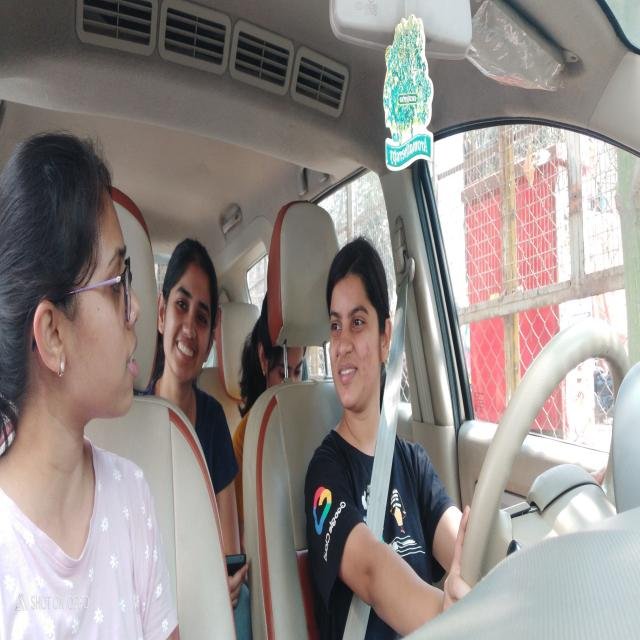person: (0, 120, 151, 438), (324, 242, 394, 412), (158, 233, 217, 400), (258, 296, 309, 401)
talking: (122, 340, 146, 390), (332, 360, 362, 388)
